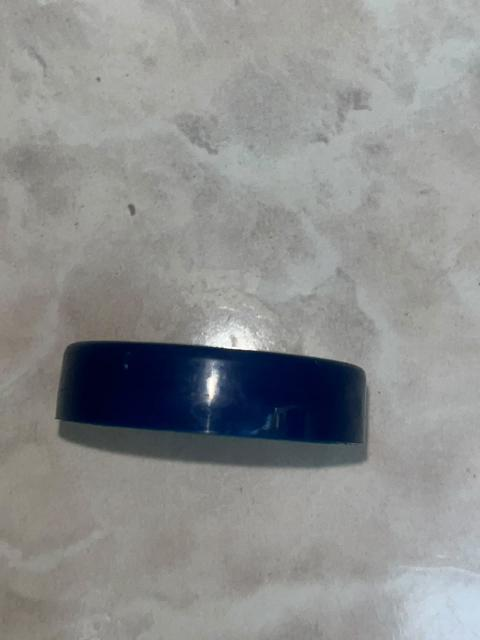HDPE: (47, 295, 380, 509)
